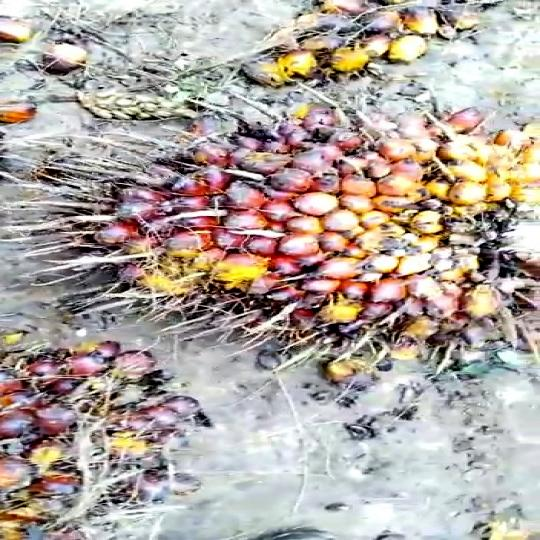masak: (31, 111, 540, 388)
